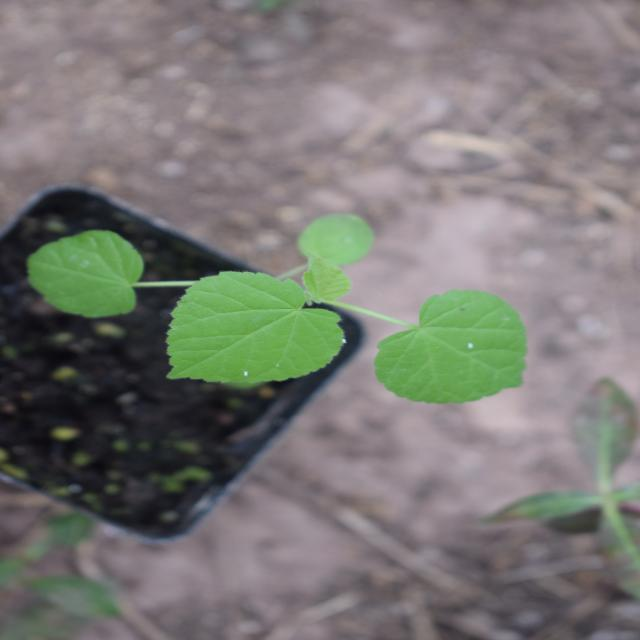abutilon theophrasti: (192, 92, 412, 585)
